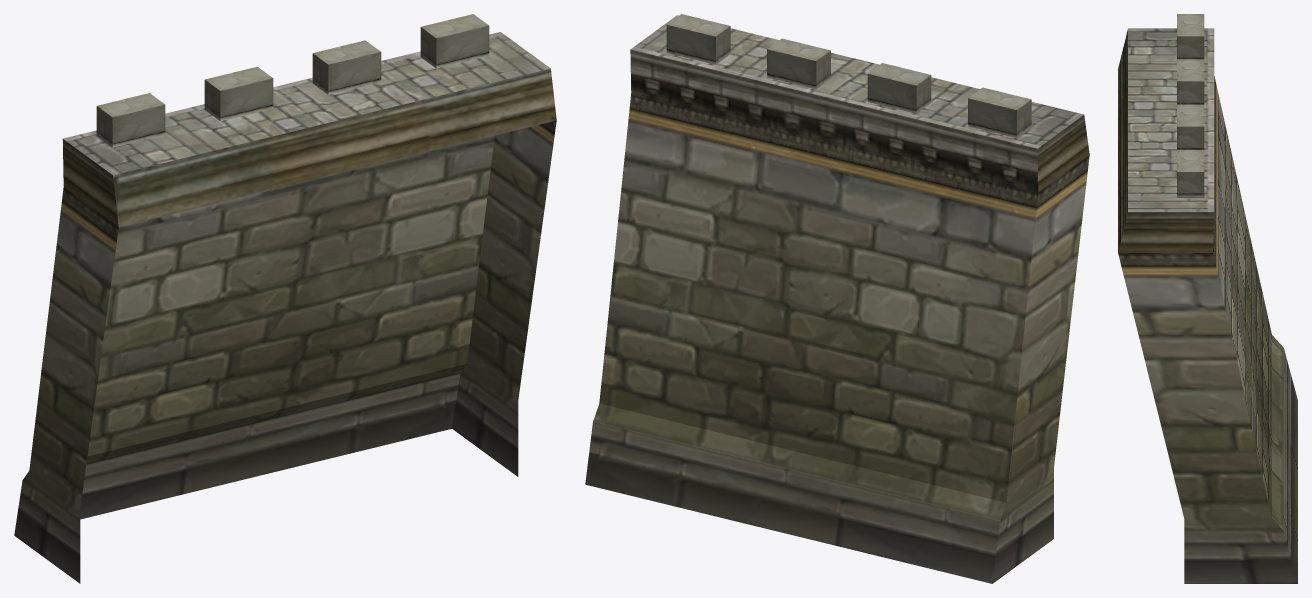
Rendered from DN_GH_Wall01.FBX.
3 views of the same model, side by side, from view 1: azimuth 30°, elevation 25°; view 2: azimuth 150°, elevation 25°; view 3: azimuth 270°, elevation 25° (orthographic). The views are drawn at different scales.
Visible parts, largest first — view 1: DN_GH_Wall01; view 2: DN_GH_Wall01; view 3: DN_GH_Wall01.
Boxes of the visible parts, x1,y1,x2,y2 form: DN_GH_Wall01: (14,14,556,583); DN_GH_Wall01: (585,14,1089,583); DN_GH_Wall01: (1118,14,1297,583).
Size of the model in its own units: 510 by 515 by 211.
